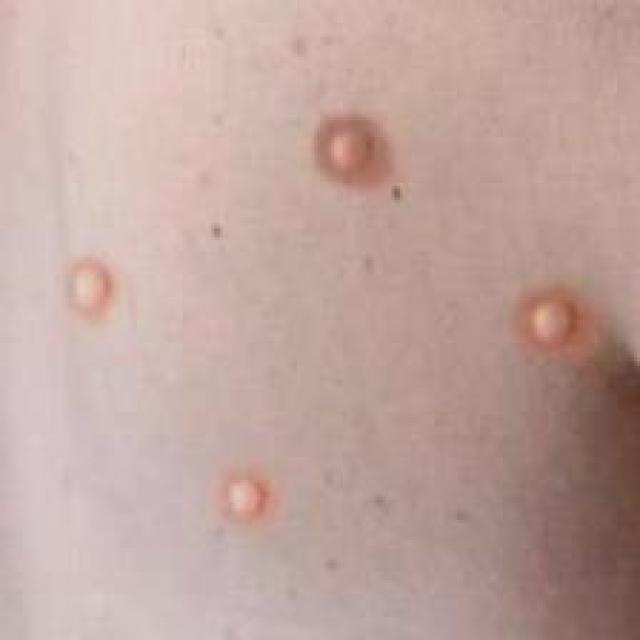monkeypox: (27, 38, 606, 588)
